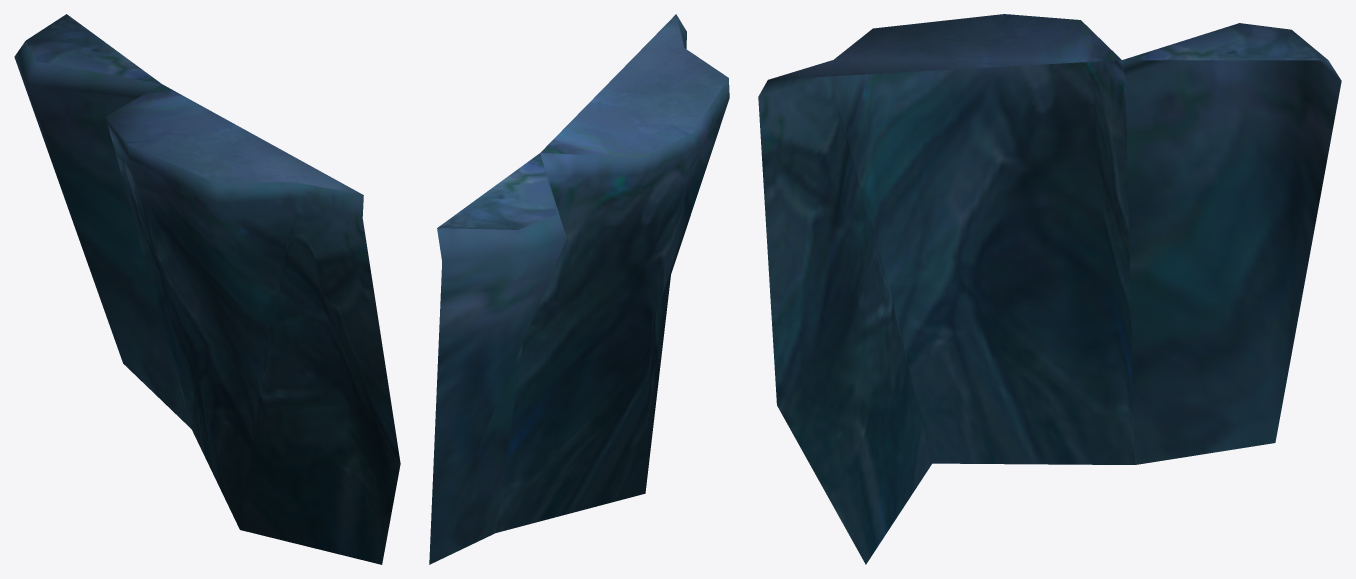
File: h5_shibian_a.FBX
3 renders of one model, left to right at view 1: azimuth 30°, elevation 25°; view 2: azimuth 150°, elevation 25°; view 3: azimuth 270°, elevation 25°, orthographic. The views are drawn at different scales.
Visible parts, largest first — view 1: h5_shibian_a; view 2: h5_shibian_a; view 3: h5_shibian_a.
Part boxes in pixels (x1,y1,x2,y2): h5_shibian_a: (14, 14, 400, 564); h5_shibian_a: (429, 14, 729, 564); h5_shibian_a: (758, 14, 1341, 564).
Size of the model in its own units: 2.52 by 5.33 by 6.25.
2 materials, 2 textured.
